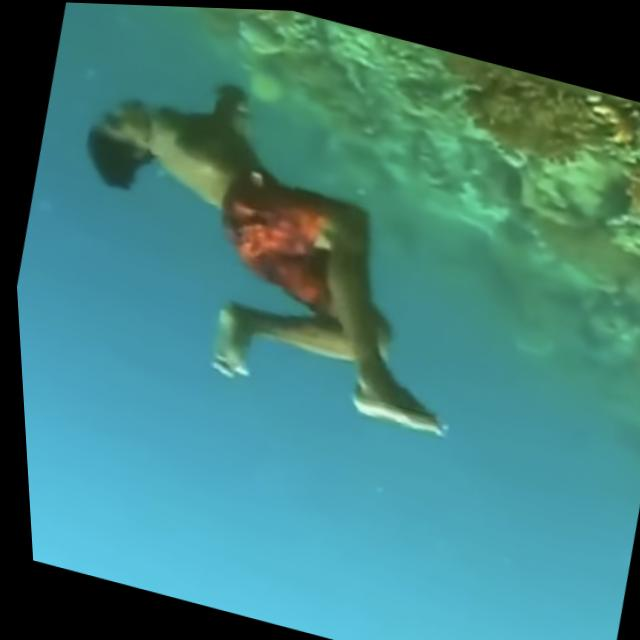human: (18, 31, 517, 455)
